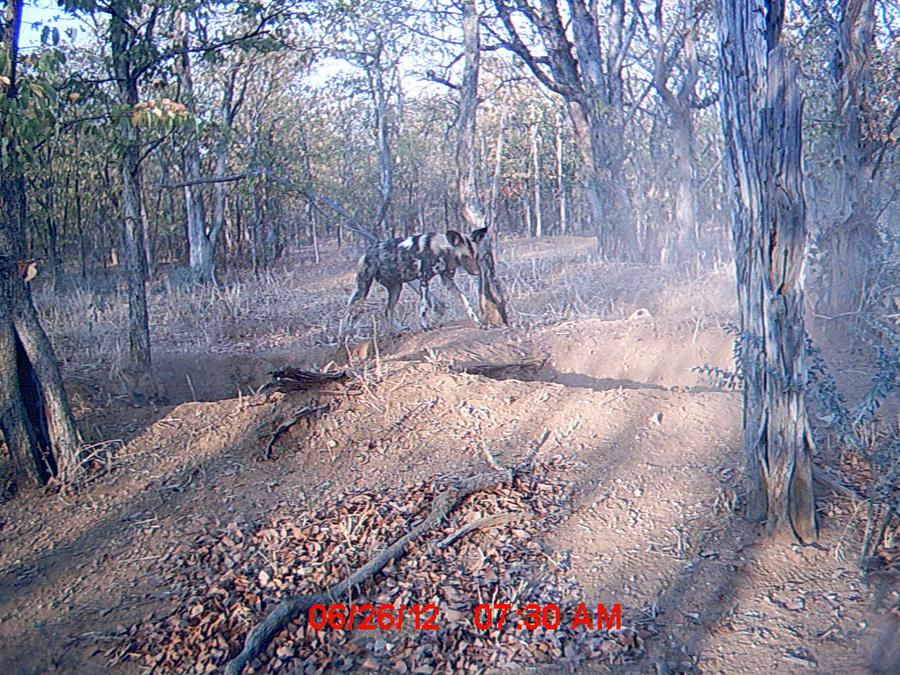wilddog: (360, 204, 495, 341)
